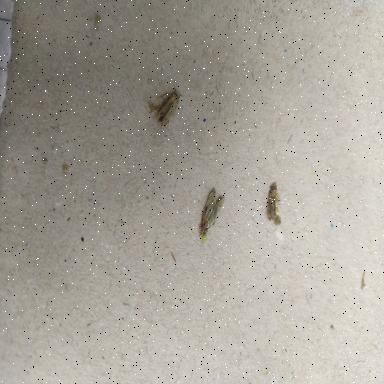pbw: (146, 86, 184, 130), (200, 188, 226, 236), (268, 182, 282, 226)
